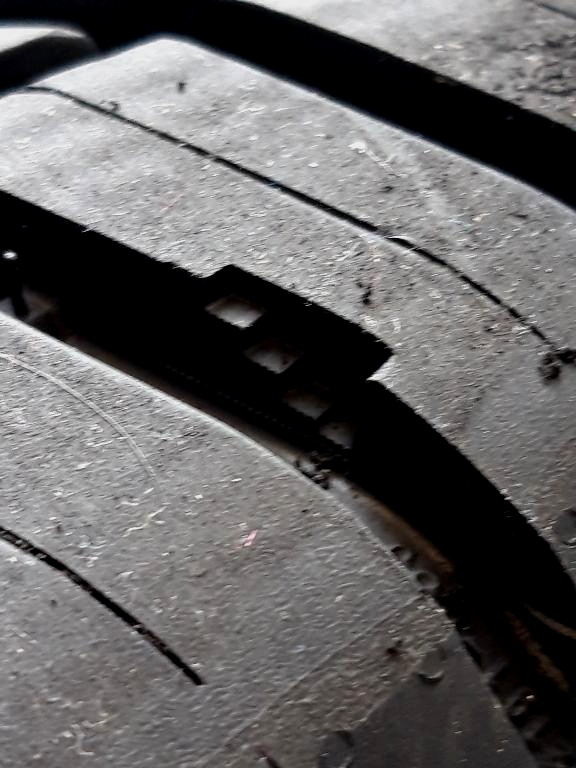temoin:95: (151, 244, 406, 486)
